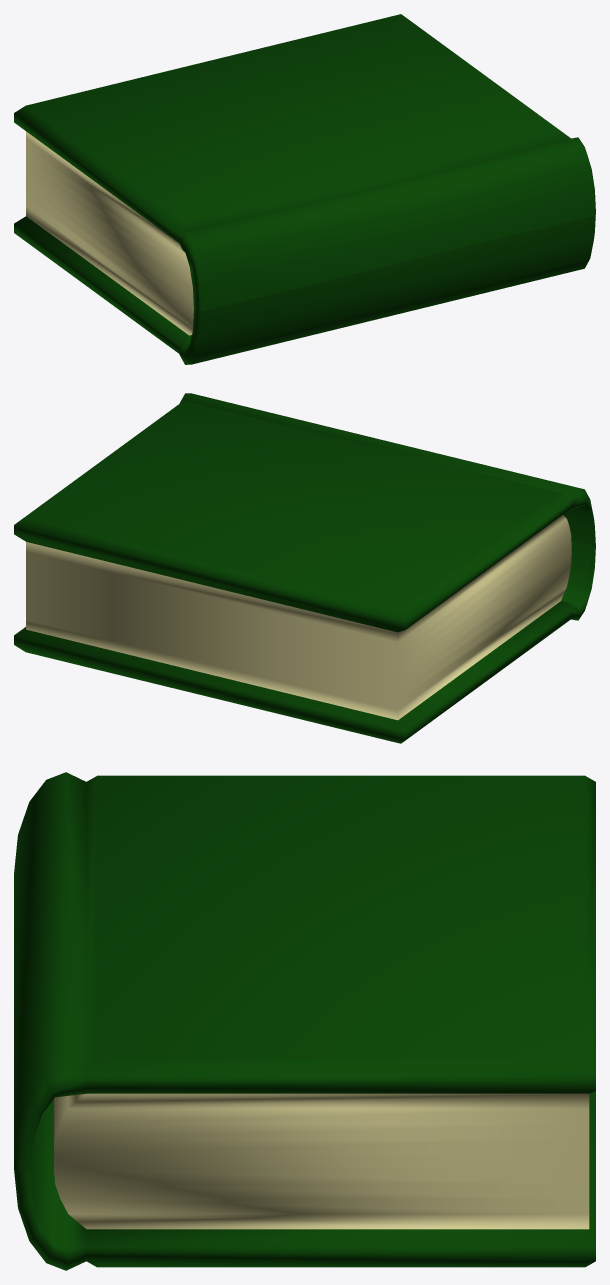
File: Book_1.fbx
The picture shows the model from 3 angles, top to bottom: view 1: azimuth 30°, elevation 25°; view 2: azimuth 150°, elevation 25°; view 3: azimuth 270°, elevation 25°; orthographic projection. The views are drawn at different scales.
Visible parts, largest first — view 1: Cube; view 2: Cube; view 3: Cube.
Boxes of the visible parts, bbox=[...] form: Cube: bbox=[14, 14, 595, 364]; Cube: bbox=[14, 393, 595, 743]; Cube: bbox=[14, 772, 595, 1270].
Size of the model in its own units: 215 by 69.42 by 175.
